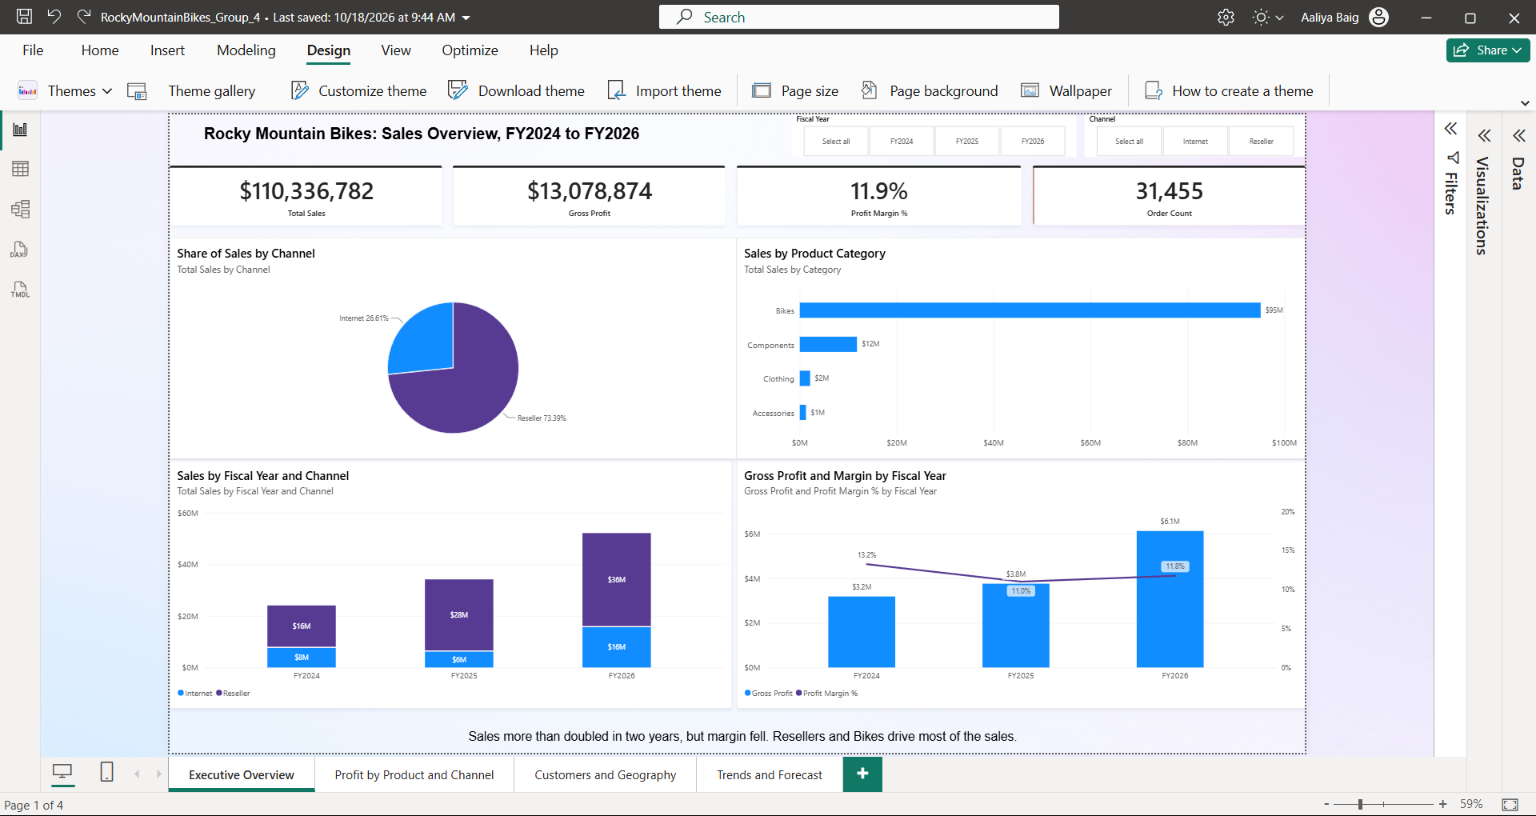

Layout of this report page (visuals, bound fields, positions):
{"tool":"powerbi","page":{"name":"Executive Overview","canvas":[1920,1080],"ordinal":0},"visuals":[{"type":"textbox","box":[0,0,852.4,72.4],"z":0},{"type":"slicer","fields":{"Values":["Dates.Fiscal Year"]},"box":[1051.4,0,481.4,72.4],"z":1000},{"type":"slicer","fields":{"Values":["Sales.Channel"]},"box":[1547.3,0,372.8,72.4],"z":2000},{"type":"cardVisual","fields":{"Data":["_Measures.Total Sales"]},"box":[0,86.9,461.5,101.3],"z":3000},{"type":"cardVisual","fields":{"Data":["_Measures.Gross Profit"]},"box":[477.8,86.9,461.5,101.3],"z":4000},{"type":"cardVisual","fields":{"Data":["_Measures.Profit Margin %"]},"box":[959.1,86.9,481.4,101.3],"z":5000},{"type":"cardVisual","fields":{"Data":["_Measures.Order Count"]},"box":[1458.6,86.9,461.5,101.3],"z":6000},{"type":"columnChart","title":"Sales by Fiscal Year and Channel","fields":{"Category":["Dates.Fiscal Year"],"Series":["Sales.Channel"],"Y":["_Measures.Total Sales"]},"box":[0,582.5,950.9,422],"z":7000},{"type":"lineClusteredColumnComboChart","title":"Gross Profit and Margin by Fiscal Year","fields":{"Category":["Dates.Fiscal Year"],"Y":["_Measures.Gross Profit"],"Y2":["_Measures.Profit Margin %"]},"box":[959.2,582.5,961.2,422],"z":8000},{"type":"pieChart","title":"Share of Sales by Channel","fields":{"Category":["Sales.Channel"],"Y":["_Measures.Total Sales"]},"box":[0,207.9,959.2,374.6],"z":9000},{"type":"clusteredBarChart","title":"Sales by Product Category","fields":{"Category":["Products.Category"],"Y":["_Measures.Total Sales"]},"box":[959.2,207.9,961.2,374.6],"z":10000},{"type":"textbox","box":[203.8,1023,1529.3,57.6],"z":11000}]}

Visuals, with their boxes on the page's 1920x1080 design canvas (x1, y1, x2, y2). These are canvas units, not pixel positions in the 1536x816 screenshot, which may show the page scaled, cropped or inside an application window:
textbox: 0:0:852:72
slicer - Dates.Fiscal Year: 1051:0:1533:72
slicer - Sales.Channel: 1547:0:1920:72
cardVisual - _Measures.Total Sales: 0:87:462:188
cardVisual - _Measures.Gross Profit: 478:87:939:188
cardVisual - _Measures.Profit Margin %: 959:87:1440:188
cardVisual - _Measures.Order Count: 1459:87:1920:188
"Sales by Fiscal Year and Channel" columnChart: 0:582:951:1004
"Gross Profit and Margin by Fiscal Year" lineClusteredColumnComboChart: 959:582:1920:1004
"Share of Sales by Channel" pieChart: 0:208:959:582
"Sales by Product Category" clusteredBarChart: 959:208:1920:582
textbox: 204:1023:1733:1081
